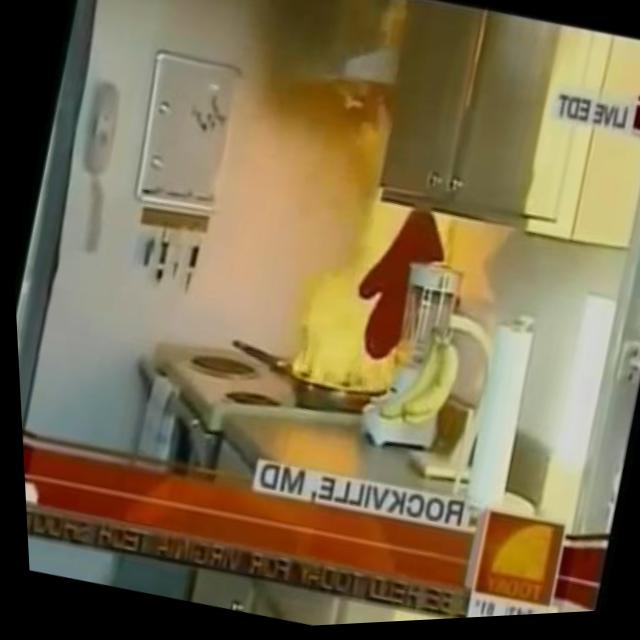fire: (267, 100, 499, 418)
